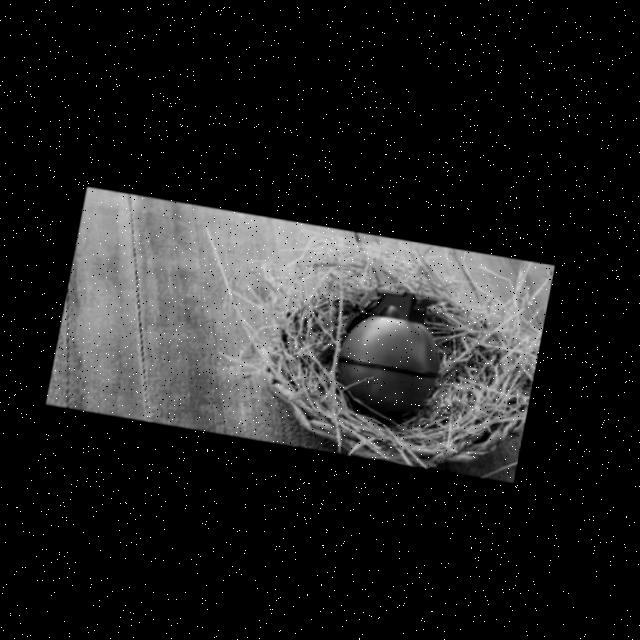grenade: (340, 275, 469, 422)
